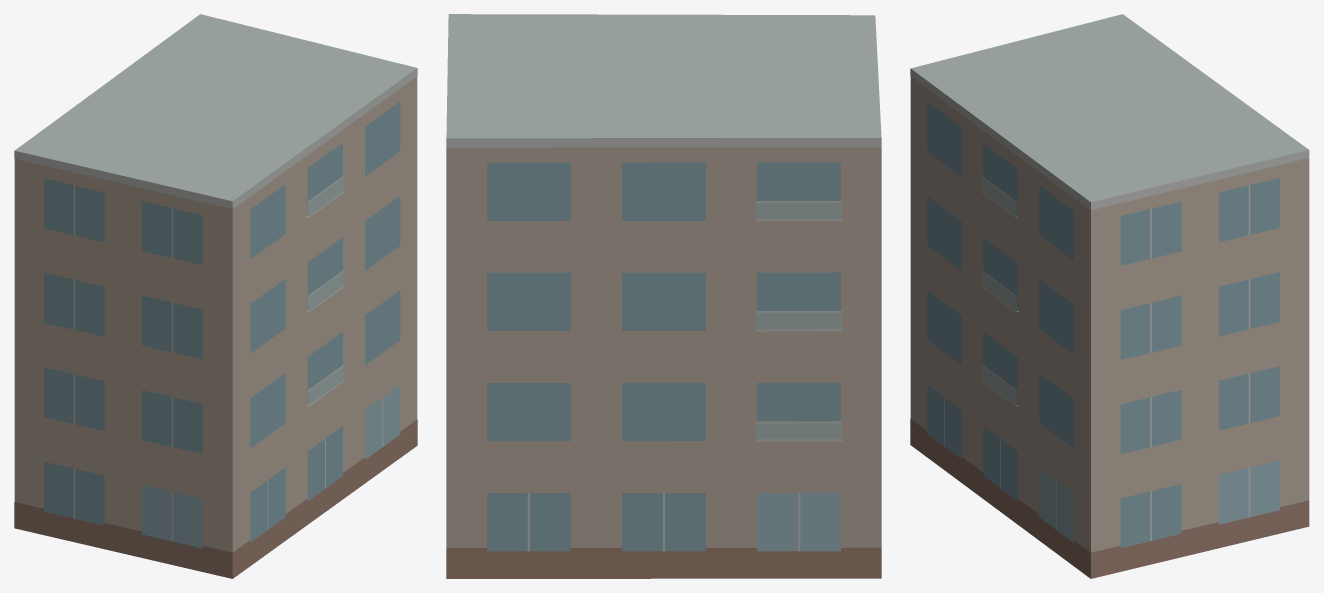
Rendered from survey-upis-32926060.glb.
3 renders of one model, left to right at view 1: azimuth 30°, elevation 25°; view 2: azimuth 150°, elevation 25°; view 3: azimuth 270°, elevation 25°, orthographic. The views are drawn at different scales.
Parts seen in each view (by area): view 1: survey-upis-32926060.tmp; view 2: survey-upis-32926060.tmp; view 3: survey-upis-32926060.tmp.
Part boxes in pixels (<box>): survey-upis-32926060.tmp: <box>14,14,417,578</box>; survey-upis-32926060.tmp: <box>446,14,881,578</box>; survey-upis-32926060.tmp: <box>910,14,1309,578</box>.
Size of the model in its own units: 12.35 by 11.5 by 11.05.
